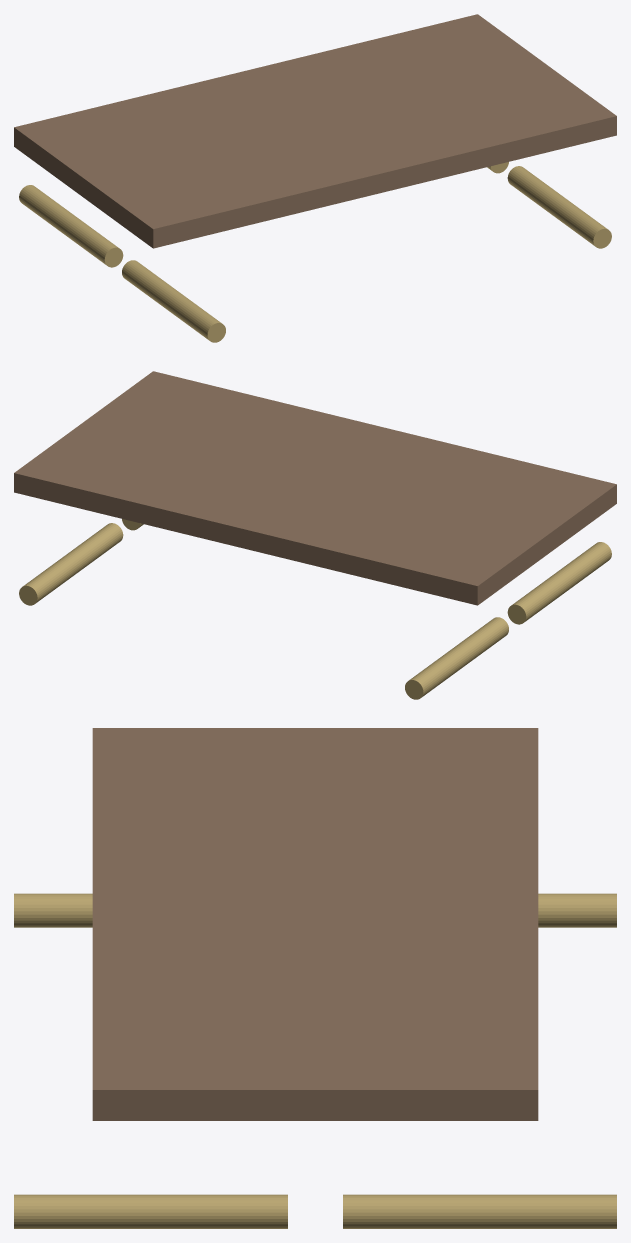
File: table_coffee_walnut.glb
The picture shows the model from 3 angles, top to bottom: view 1: azimuth 30°, elevation 25°; view 2: azimuth 150°, elevation 25°; view 3: azimuth 270°, elevation 25°; orthographic projection. The views are drawn at different scales.
Visible parts, largest first — view 1: geometry_0, geometry_4, geometry_1, geometry_3; view 2: geometry_0, geometry_2, geometry_3, geometry_1; view 3: geometry_0, geometry_2, geometry_4, geometry_1, geometry_3.
Part boxes in pixels (x1,y1,x2,y2): geometry_0: [14, 14, 616, 248]; geometry_4: [507, 166, 611, 248]; geometry_1: [19, 185, 123, 267]; geometry_3: [122, 260, 225, 342]; geometry_0: [14, 371, 616, 605]; geometry_2: [19, 523, 123, 605]; geometry_3: [507, 542, 611, 624]; geometry_1: [405, 617, 508, 699]; geometry_0: [92, 728, 538, 1120]; geometry_2: [343, 1194, 616, 1228]; geometry_4: [14, 1194, 287, 1228]; geometry_1: [538, 893, 616, 927]; geometry_3: [14, 893, 92, 927].
Size of the model in its own units: 1.25 by 0.27 by 0.88.
